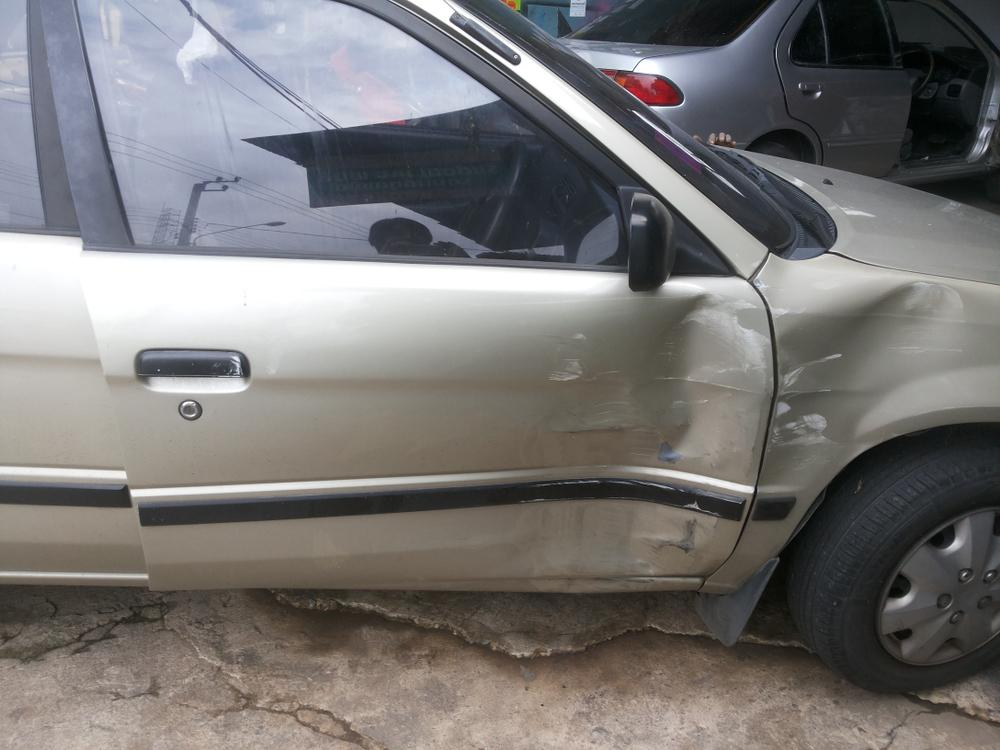dent: (527, 296, 764, 592), (757, 283, 962, 490)
scratch: (549, 327, 600, 385)
